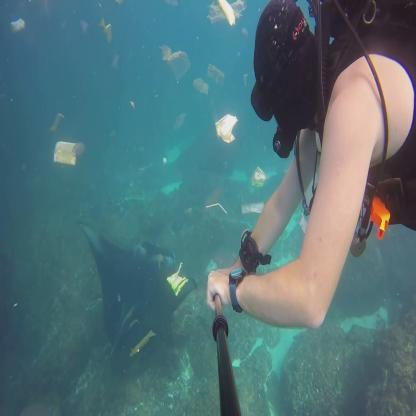Rác: (51, 140, 92, 174), (162, 43, 194, 83), (212, 111, 241, 143), (205, 1, 249, 21), (245, 167, 270, 197), (200, 200, 230, 222), (203, 58, 227, 84), (236, 198, 264, 212), (96, 18, 114, 38), (170, 272, 191, 288), (240, 70, 249, 82)
